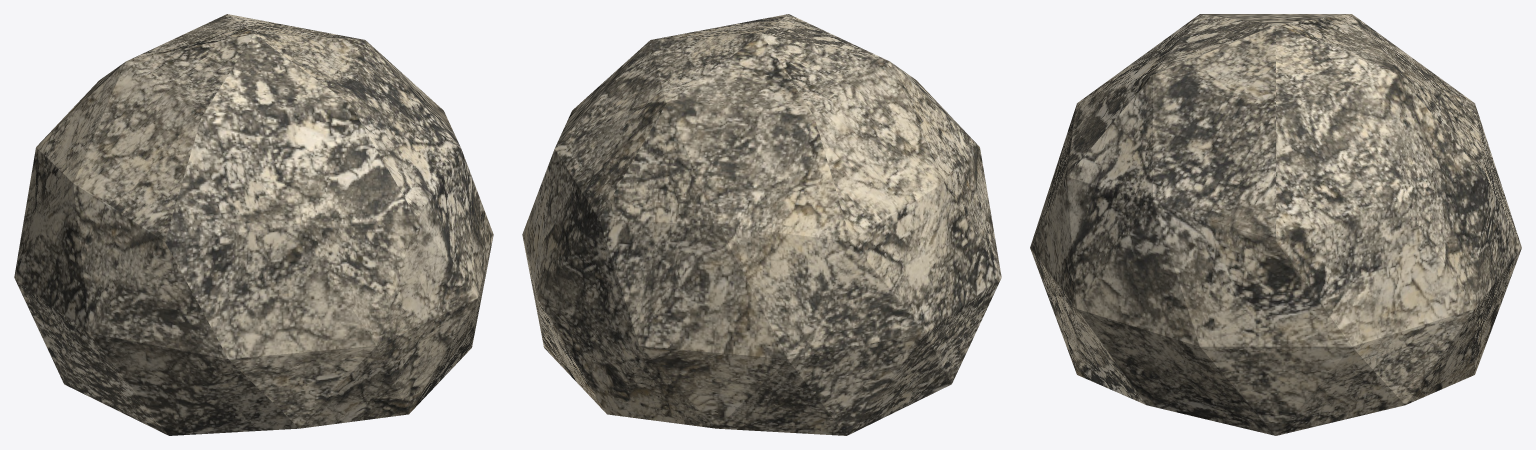
File: DoorRock.fbx
The picture shows the model from 3 angles, left to right: view 1: azimuth 30°, elevation 25°; view 2: azimuth 150°, elevation 25°; view 3: azimuth 270°, elevation 25°; orthographic projection.
Visible parts, largest first — view 1: Icosphere; view 2: Icosphere; view 3: Icosphere.
Boxes of the visible parts, bbox=[...] form: Icosphere: bbox=[14, 14, 493, 435]; Icosphere: bbox=[522, 14, 1001, 435]; Icosphere: bbox=[1030, 14, 1521, 435].
Size of the model in its own units: 410 by 312 by 431.
1 material, 1 textured.
